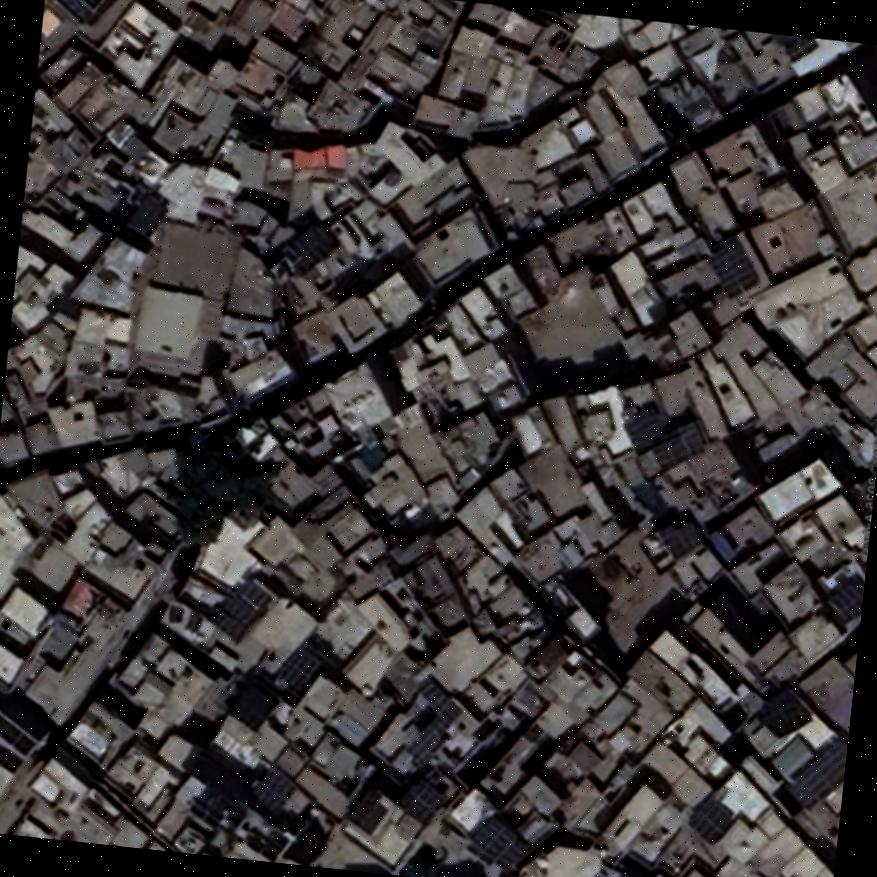Solarpanel: (785, 734, 843, 809), (211, 576, 271, 646), (280, 218, 339, 279), (274, 640, 330, 700), (465, 818, 526, 873), (709, 235, 757, 301), (407, 701, 457, 760), (756, 688, 813, 739), (651, 420, 707, 471), (685, 792, 734, 844), (252, 767, 294, 818), (347, 787, 388, 832), (397, 782, 442, 821), (825, 574, 860, 621), (417, 674, 452, 716)
